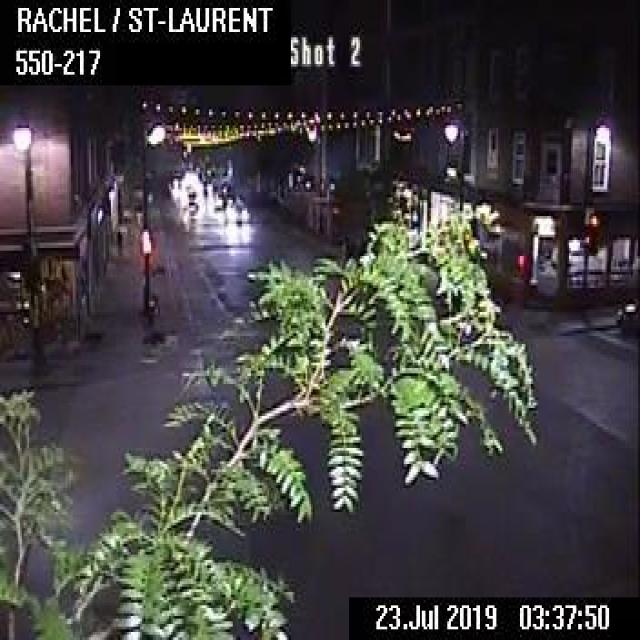vehicle: (224, 201, 248, 222), (182, 190, 203, 208)
